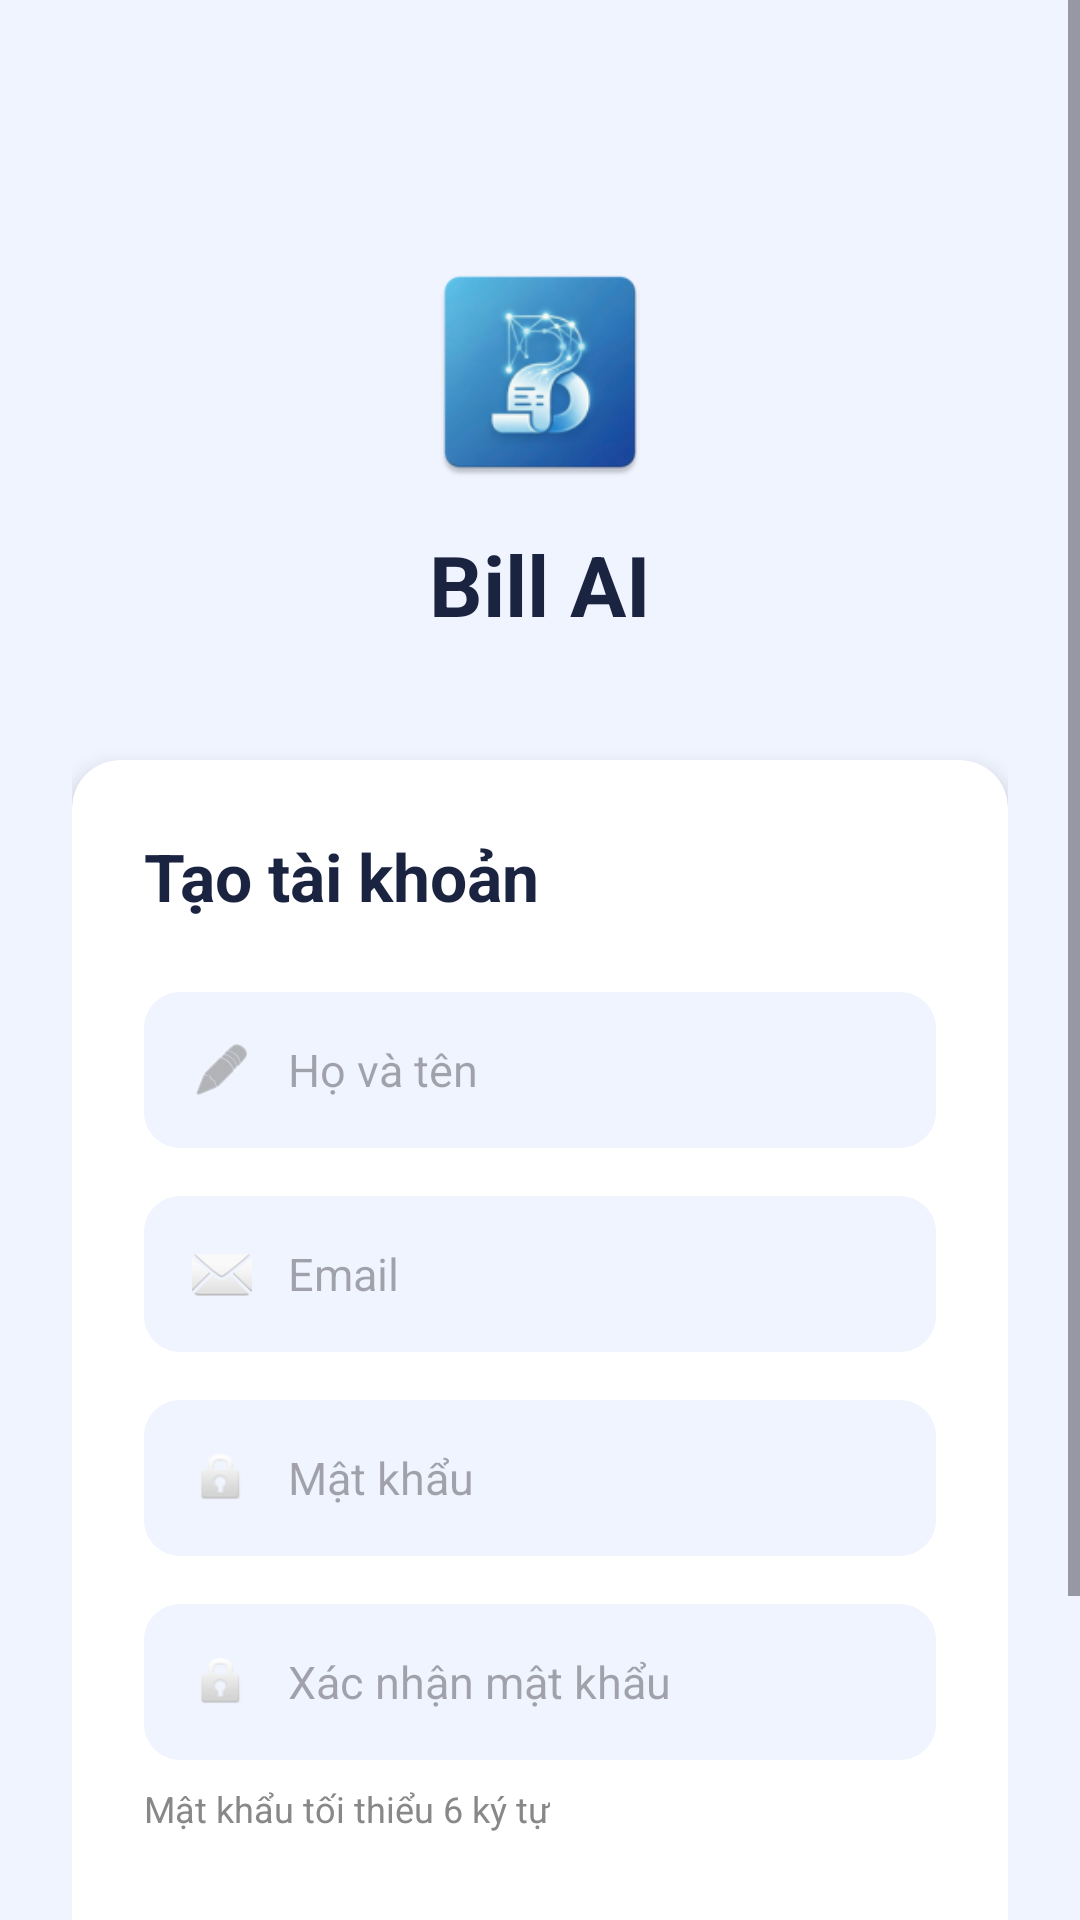

Screen size 1080×1920. Icon name, then its center in pixels as (x=x, y=y):
edit: (x=222, y=1069)
